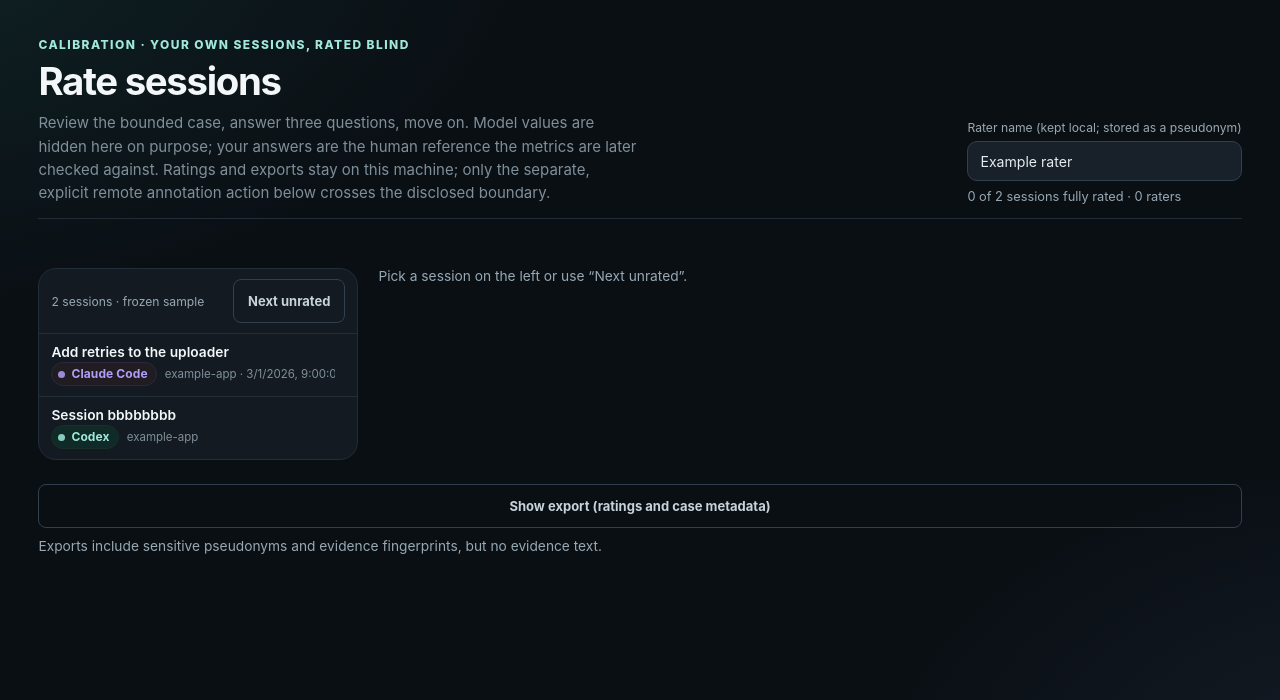
Test: CalibrationPage › keeps a save acknowledgment visible after the refreshed sample and ratings arrive
Click the button "Next unrated" at (289, 302), box 233,280 -> 345,324
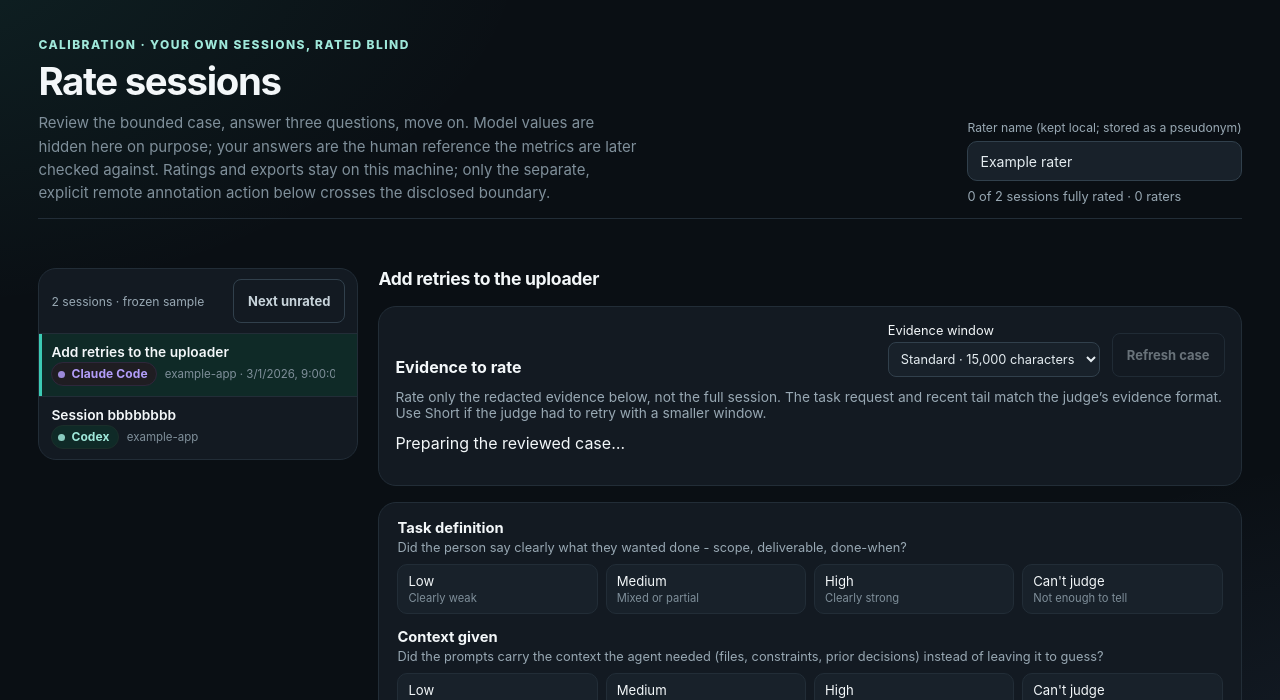
Click the 1st radio button labelled "High Clearly strong" at (914, 589), box 814,564 -> 1014,614
(page scrolled)
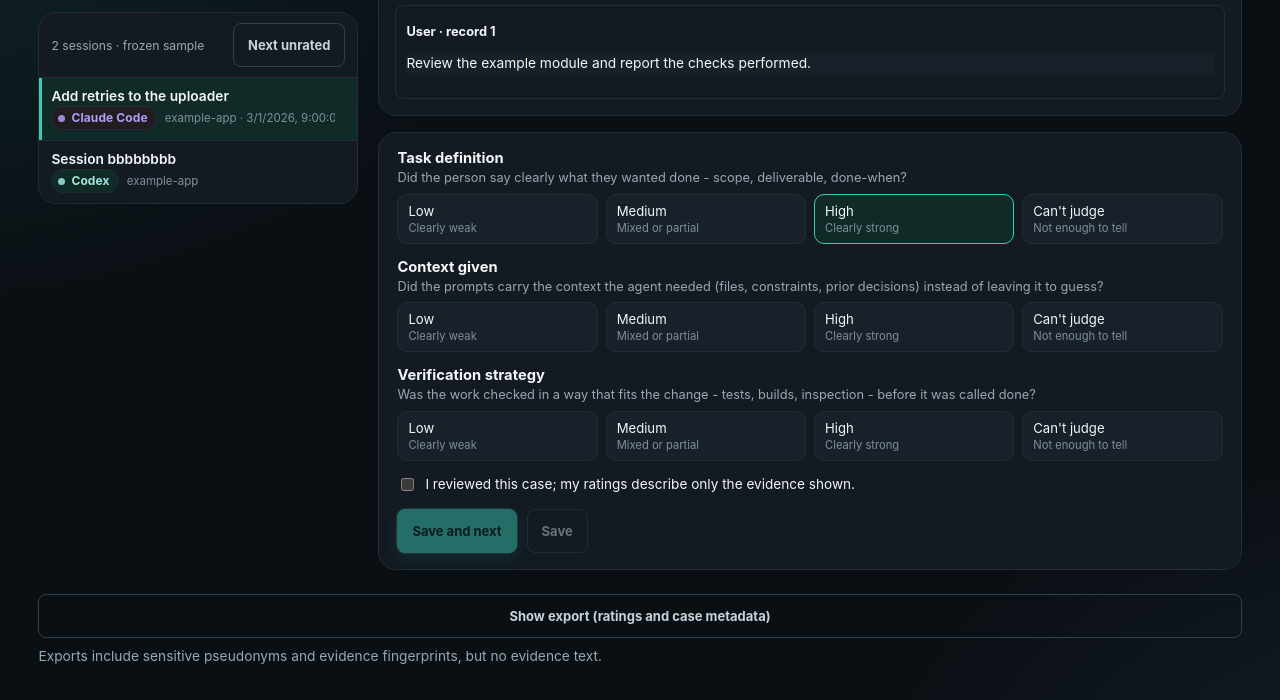
Check: the checkbox labelled "I reviewed this case" is enabled
Click the checkbox labelled "I reviewed this case" at (408, 484), box 401,478 -> 414,491
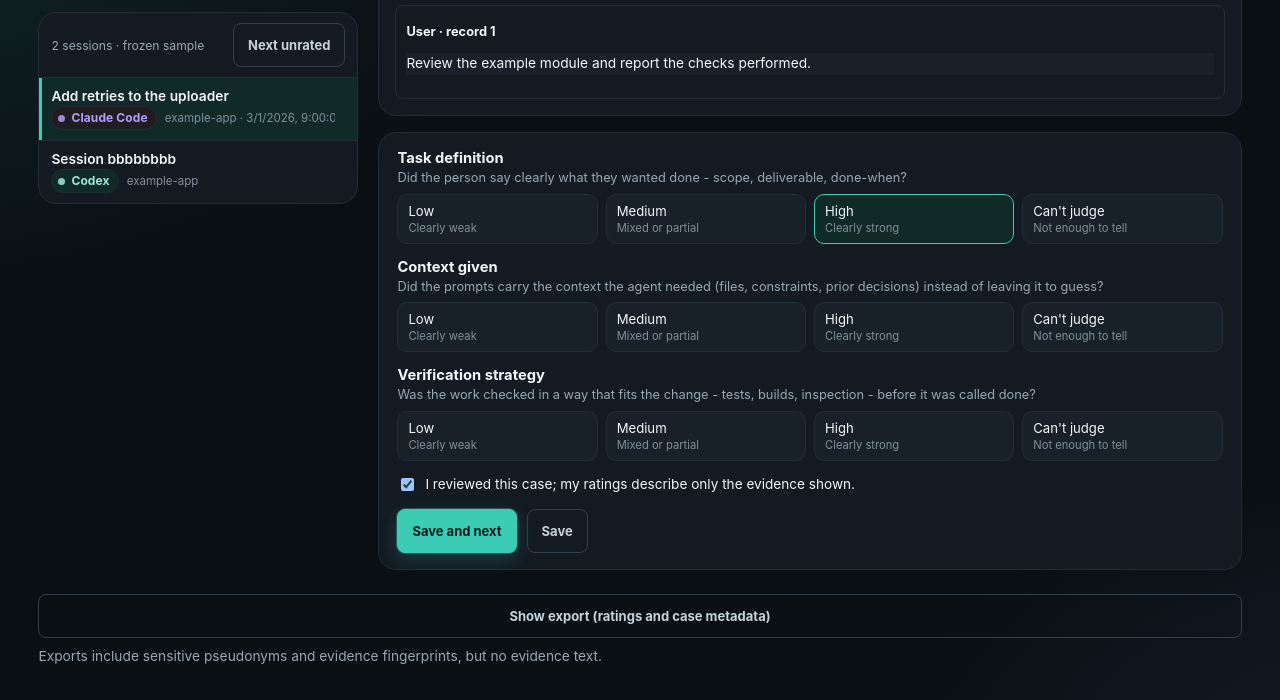
Click the button "Save" at (557, 531), box 527,509 -> 588,553
(page scrolled)
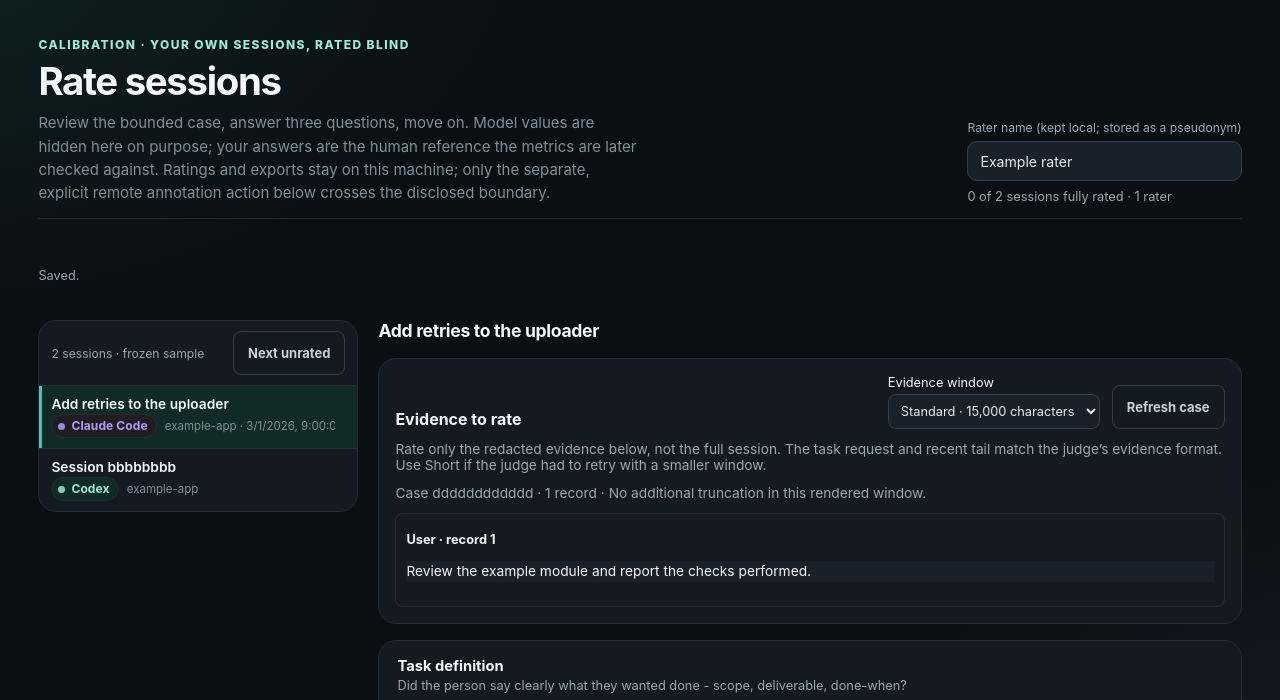
Check: the text "Saved." is shown, box 38,268 -> 80,284
